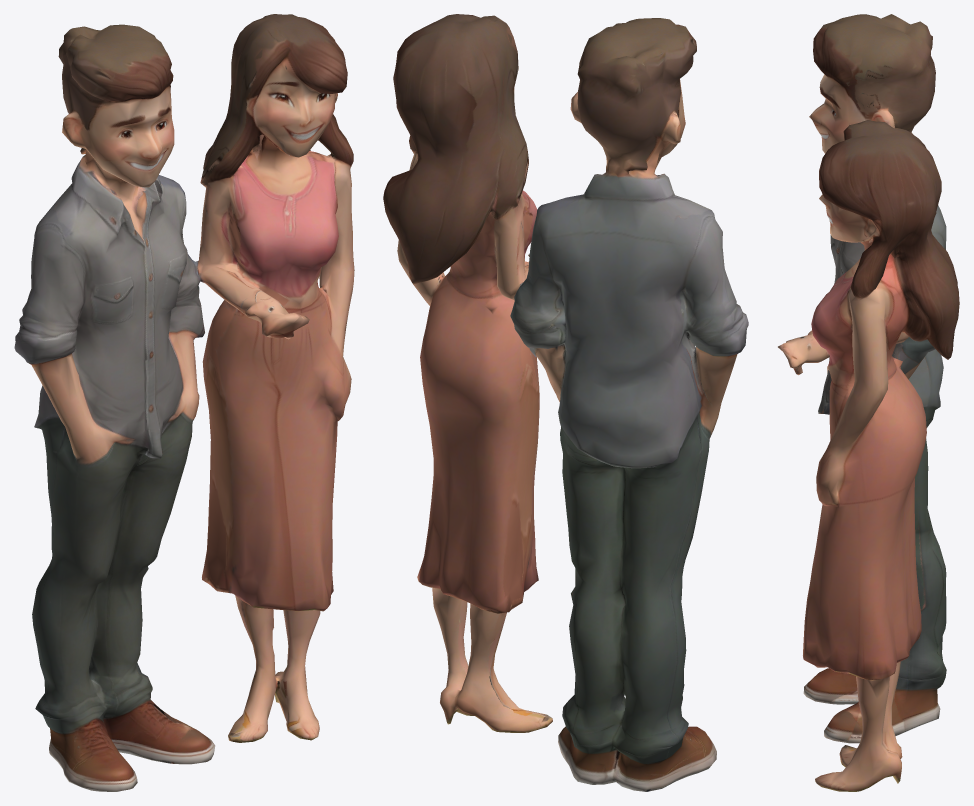
Rendered from husband.glb.
3 renders of one model, left to right at view 1: azimuth 30°, elevation 25°; view 2: azimuth 150°, elevation 25°; view 3: azimuth 270°, elevation 25°, orthographic. The views are drawn at different scales.
Size of the model in its own units: 31958 by 65608 by 15898.
1 material, 1 textured.
